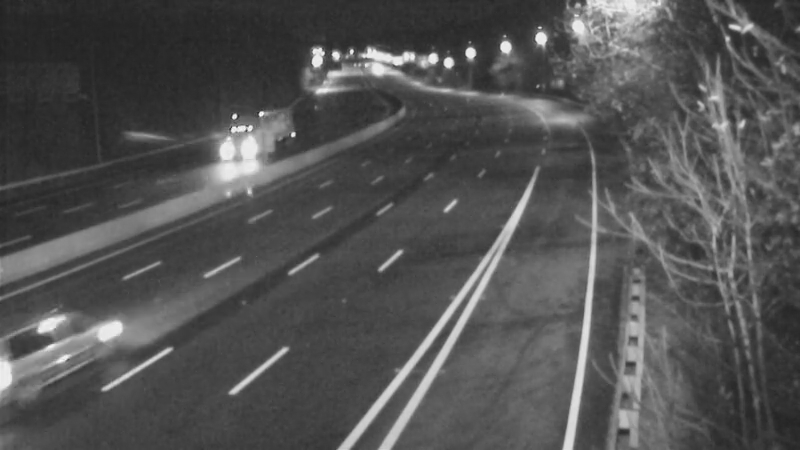vehicle: (1, 290, 107, 400), (198, 120, 248, 170)
